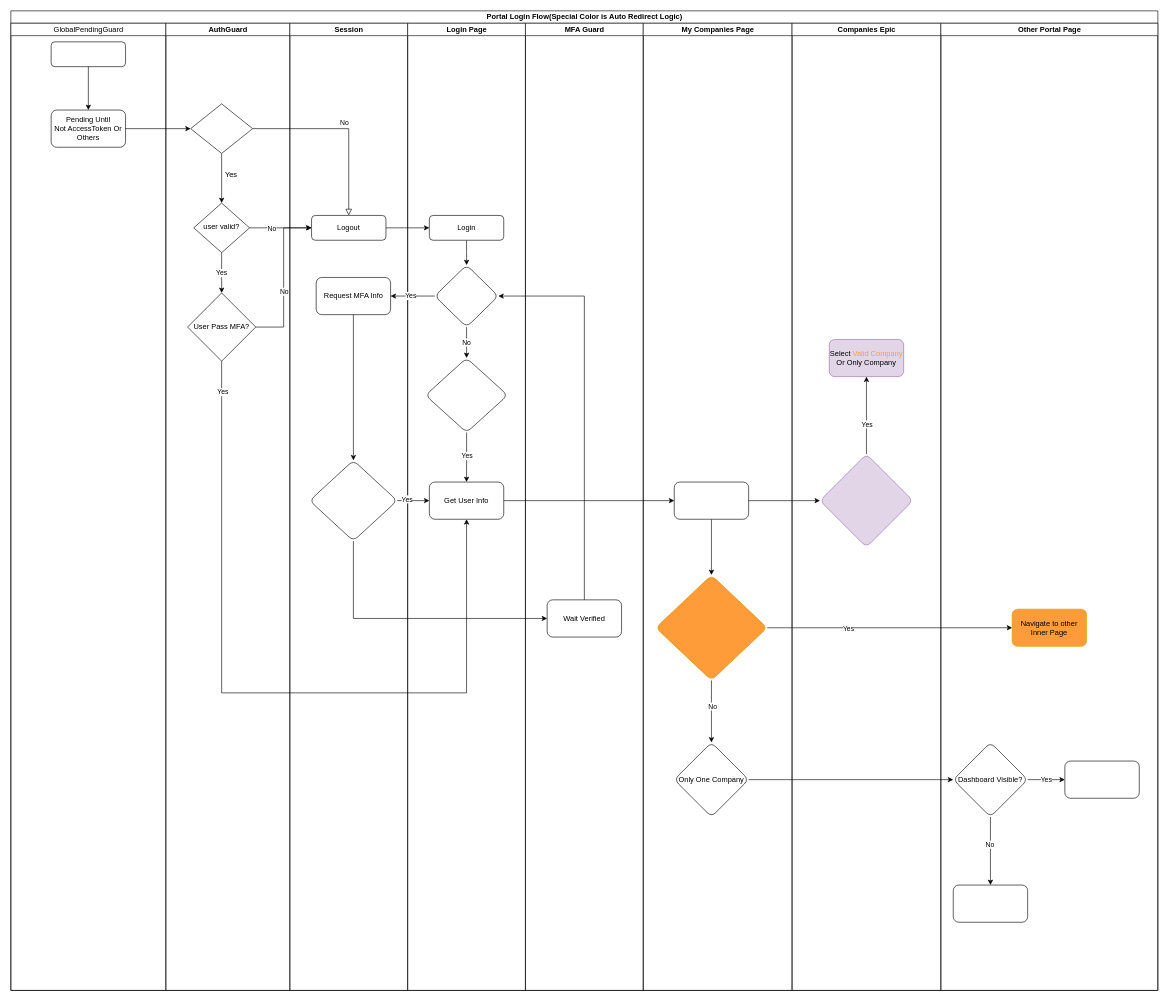
This 1169x1001 diagram has some shape labels left out. Here are the shapes that lost their labels. From the top down, the centre of each, then its label:
(x=88, y=54): Get In Portal
(x=221, y=128): Is Login?
(x=466, y=295): MFA = Pending?
(x=466, y=394): MFA Verified or Skip?
(x=353, y=500): Not Verify MFA or Skip?
(x=711, y=500): Fetch Subscriptions Fetch My Companies
(x=866, y=500): Have Valid Company Or Only One Company
(x=711, y=627): Have Valid External Company
(x=1101, y=779): Dashboard Page
(x=990, y=903): Site Page
